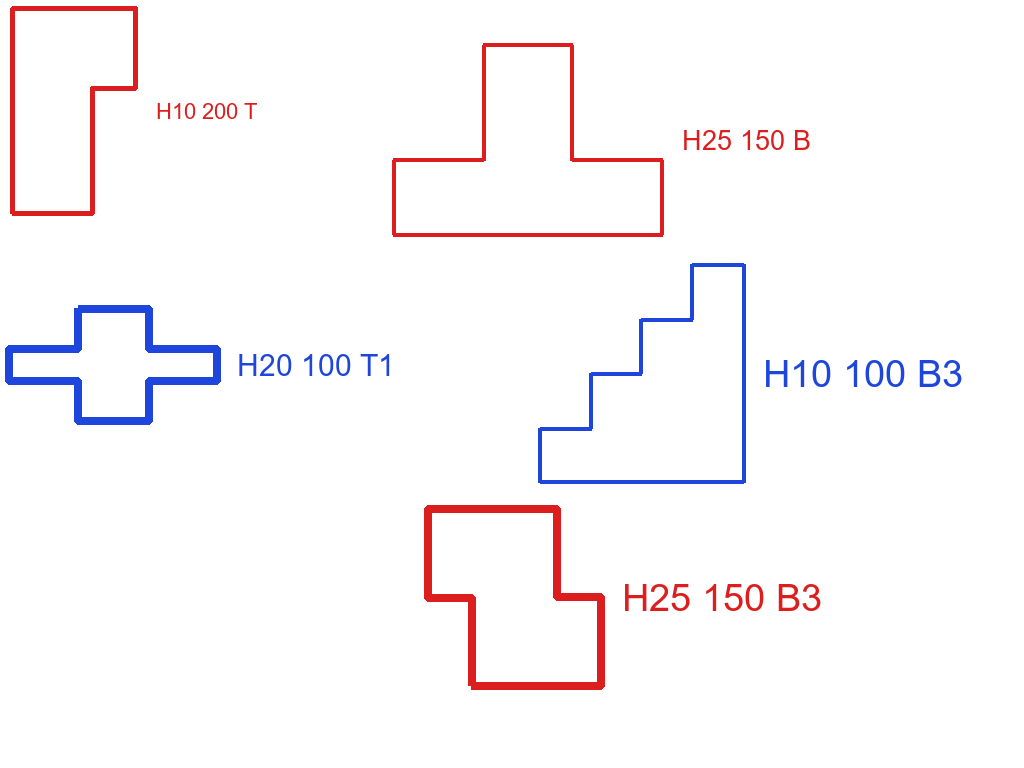shape: (390, 42, 666, 239), (537, 260, 747, 487), (421, 504, 608, 692), (8, 4, 140, 218), (4, 302, 223, 428)
text: (620, 582, 824, 613), (761, 358, 965, 389), (235, 352, 397, 378), (680, 128, 813, 152), (154, 101, 259, 121)
